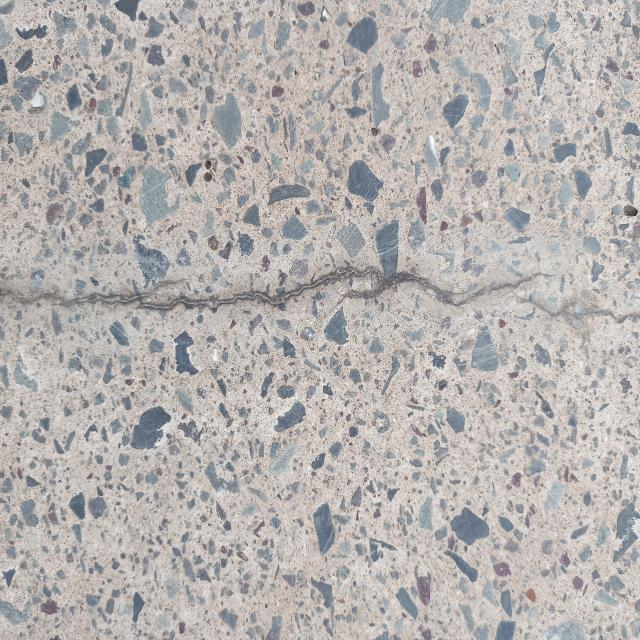horizontal crack: (0, 265, 639, 323)
